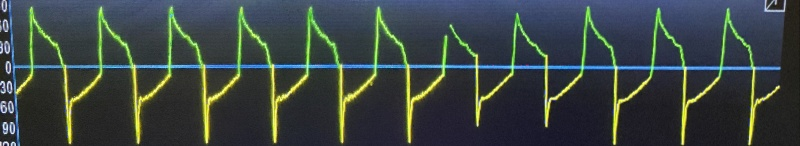peepi: (18, 0, 776, 146)
